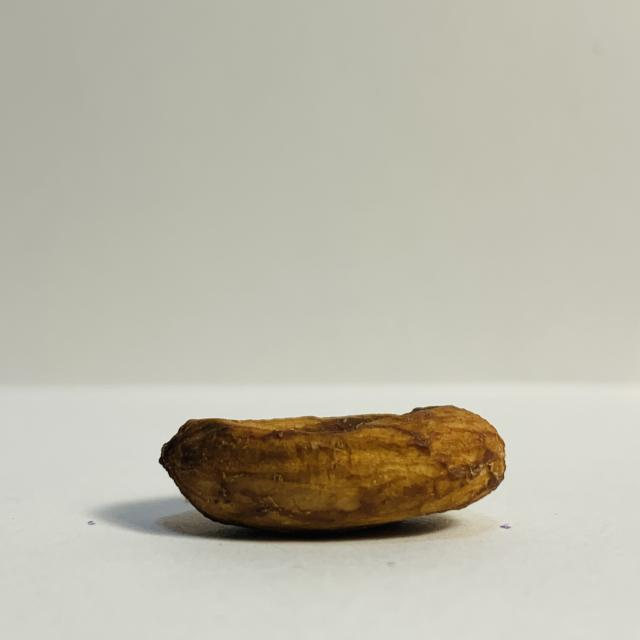Flat_cocoabeans: (105, 379, 528, 564)
